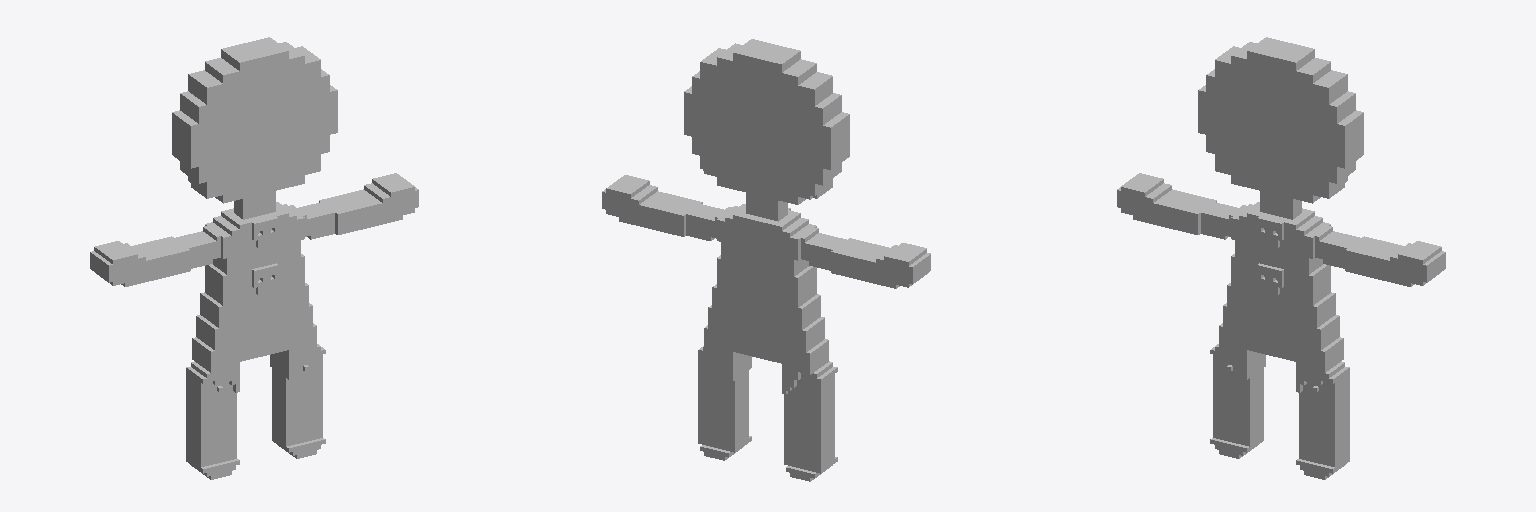
Rendered from cookie brave.obj.
3 views of the same model, side by side, from view 1: azimuth 30°, elevation 25°; view 2: azimuth 150°, elevation 25°; view 3: azimuth 330°, elevation 25° (orthographic).
Parts seen in each view (by area): view 1: cookie brave; view 2: cookie brave; view 3: cookie brave.
Boxes of the visible parts, x1,y1,x2,y2 form: cookie brave: [90, 37, 418, 479]; cookie brave: [602, 39, 930, 481]; cookie brave: [1117, 37, 1445, 479].
Size of the model in its own units: 76 by 96 by 9.